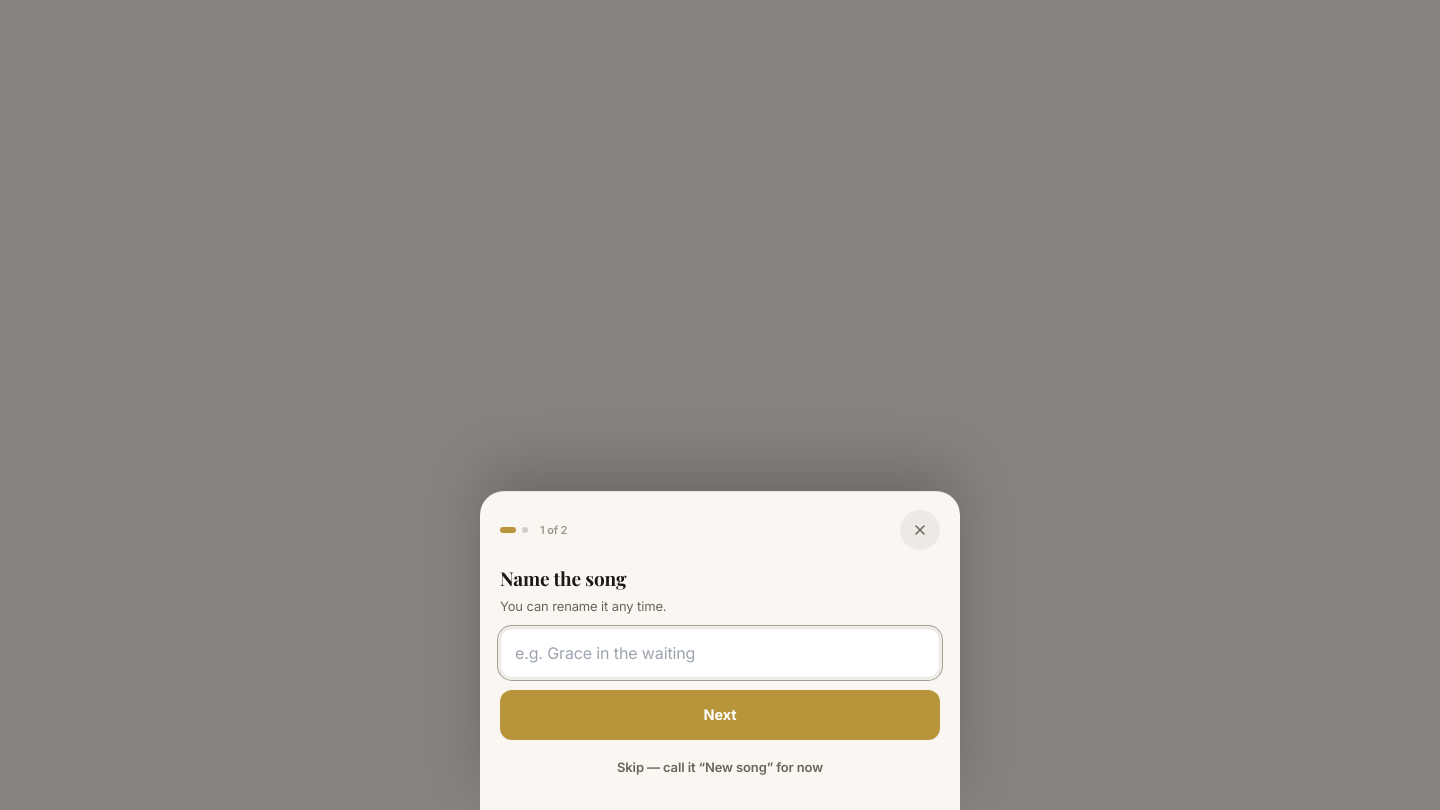
it: NewSongRail — starting a song in the rail grammar › Back is real — the name survives the round trip
The image size is (1440, 810).
Type "Hold On" into the field named "song name" at (720, 653), box x1=500 y1=628 x2=940 y2=678
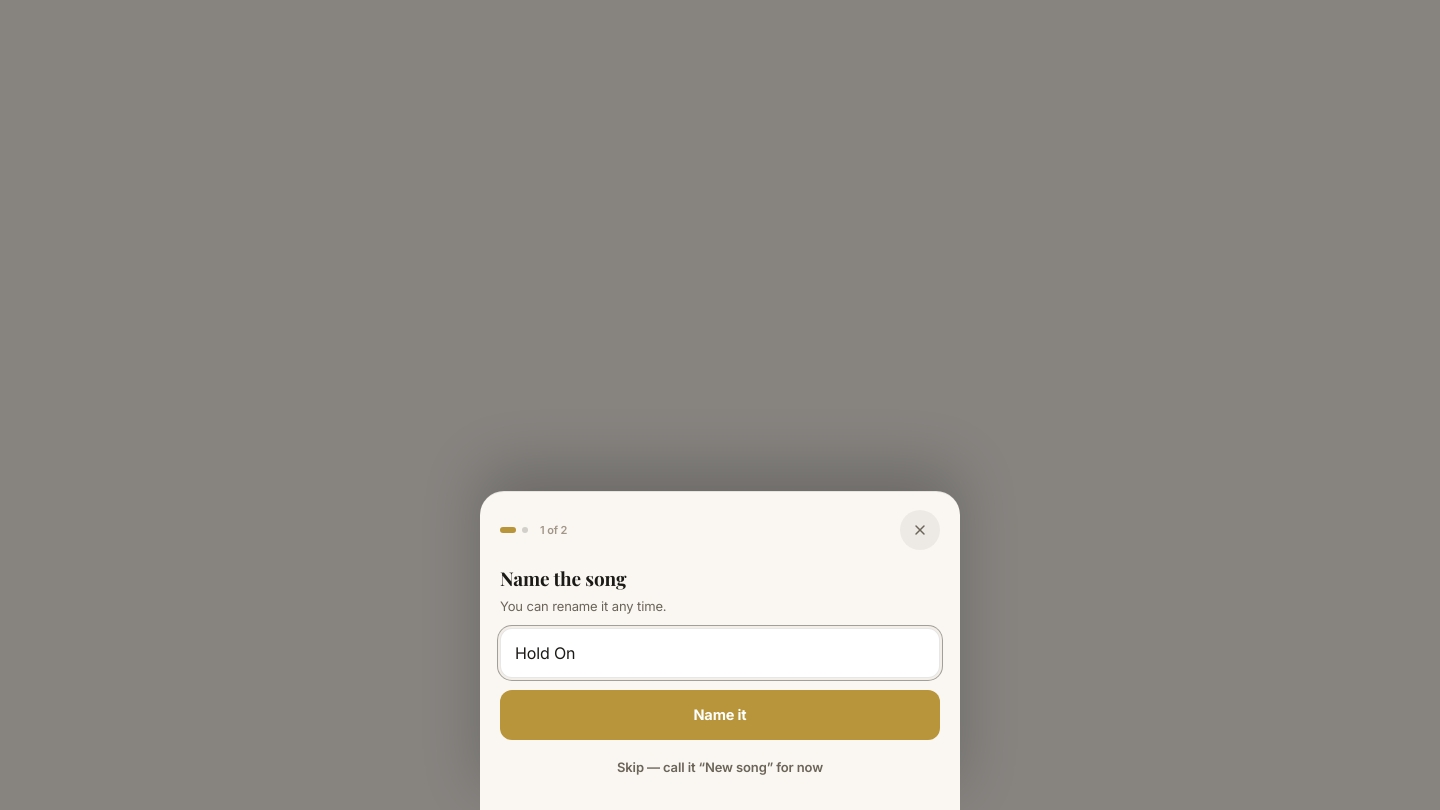
Click the button "Name it" at (720, 715), box x1=500 y1=690 x2=940 y2=740
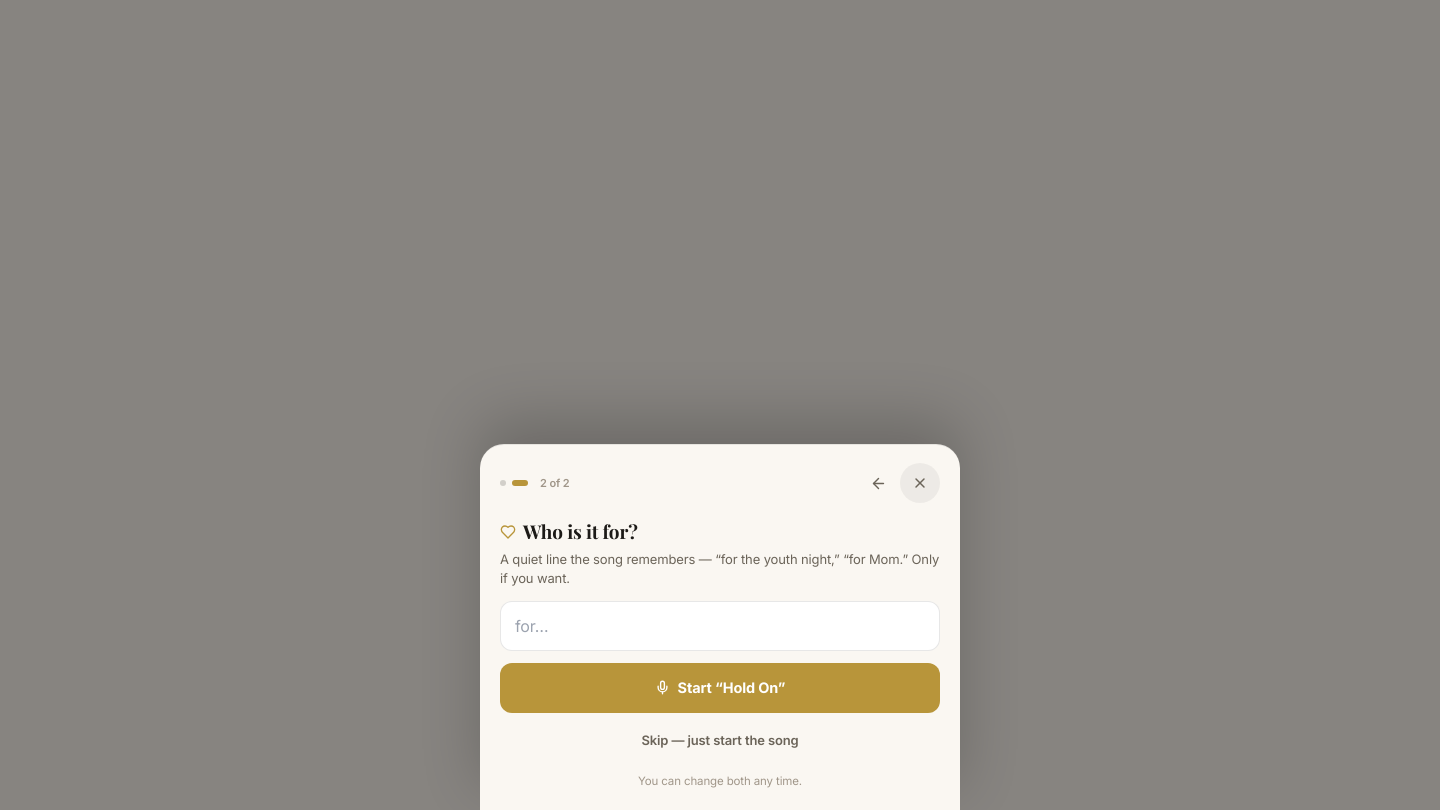
Click the button named "back" at (878, 483), box x1=858 y1=463 x2=898 y2=503
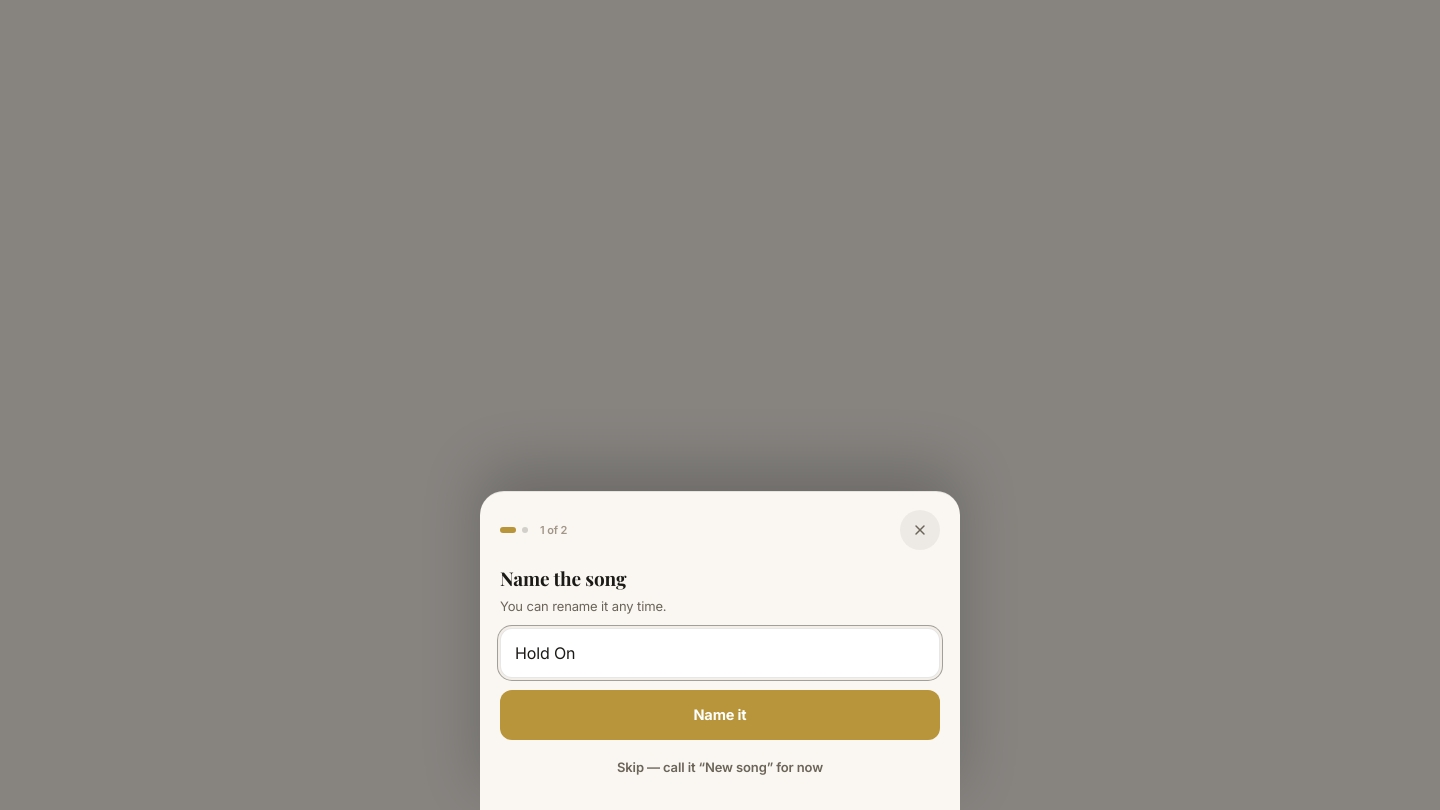
Expected: the field named "song name" holds "Hold On", x1=500 y1=628 x2=940 y2=678
